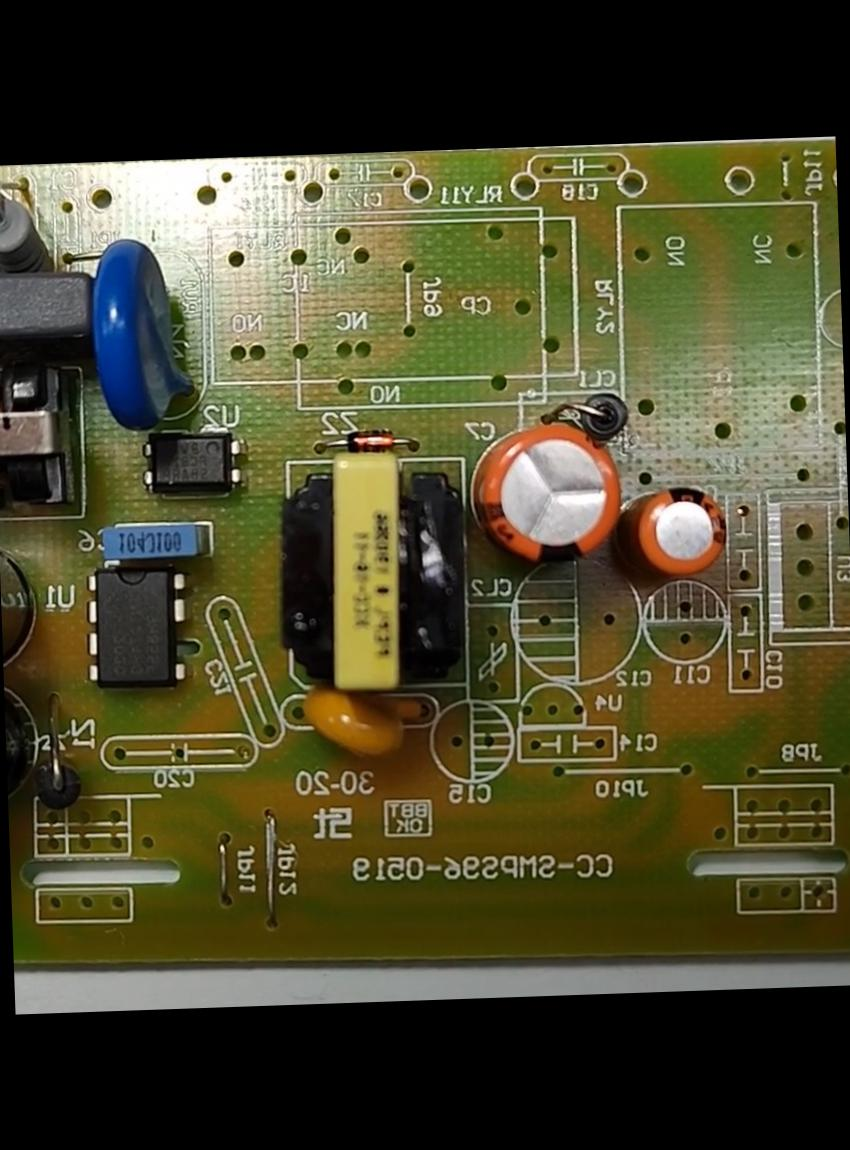Cap1: (459, 398, 627, 589)
Cap2: (607, 464, 742, 594)
Cap3: (0, 515, 43, 689)
Cap4: (2, 660, 70, 830)
MOSFET: (76, 548, 196, 705)
Mov: (82, 225, 217, 438)
Resistor: (0, 176, 60, 278)
Transformer: (272, 441, 462, 706), (0, 350, 89, 520)
